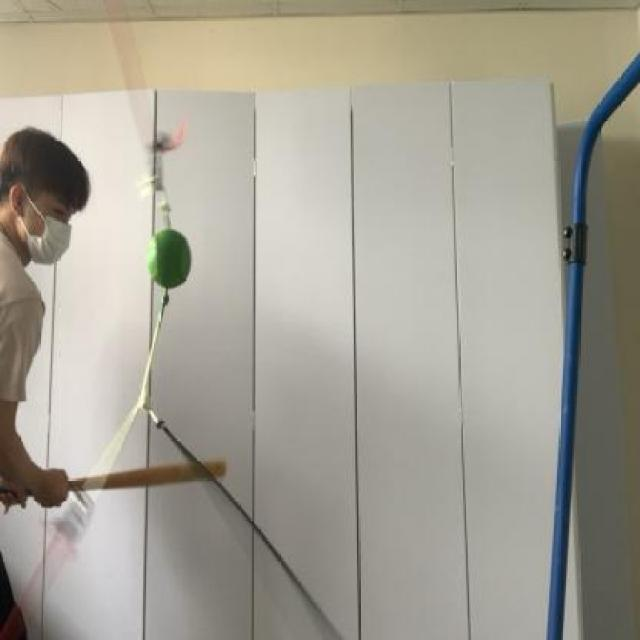baseball: (139, 222, 198, 306)
